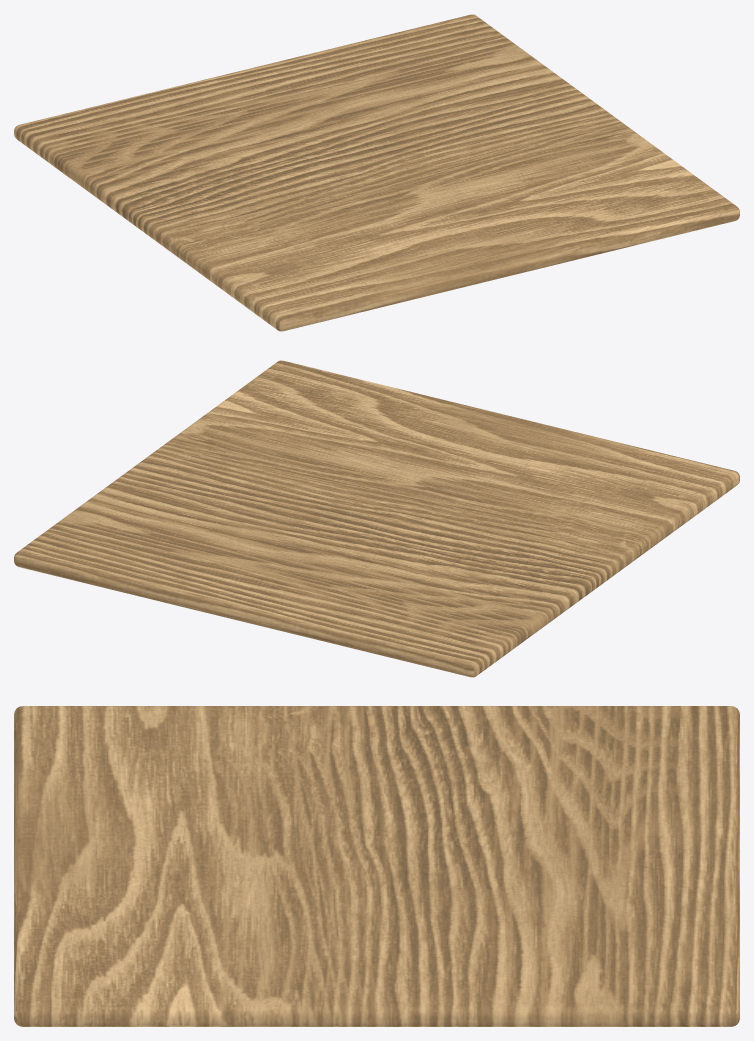
File: square4.glb
The picture shows the model from 3 angles, top to bottom: view 1: azimuth 30°, elevation 25°; view 2: azimuth 150°, elevation 25°; view 3: azimuth 270°, elevation 25°; orthographic projection. The views are drawn at different scales.
Parts seen in each view (by area): view 1: Square2; view 2: Square2; view 3: Square2.
Part boxes in pixels (x1=…): Square2: x1=14, y1=14, x2=739, y2=331; Square2: x1=14, y1=360, x2=739, y2=677; Square2: x1=14, y1=706, x2=739, y2=1026.
Size of the model in its own units: 1 by 0.03 by 1.
1 material, 1 textured.
